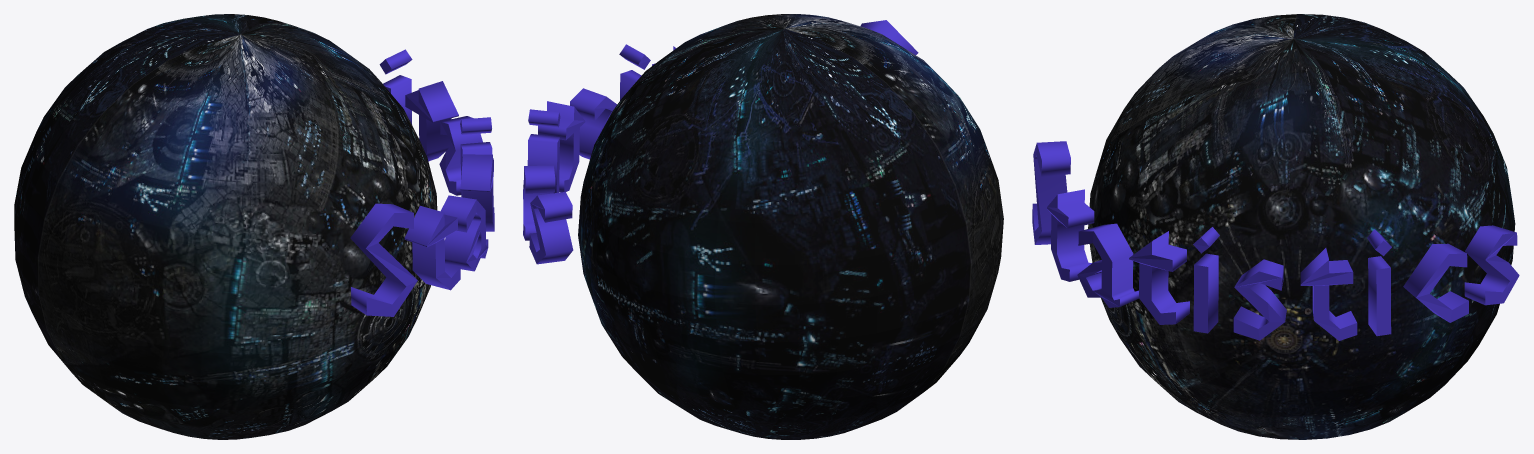
File: stats.glb
3 renders of one model, left to right at view 1: azimuth 30°, elevation 25°; view 2: azimuth 150°, elevation 25°; view 3: azimuth 270°, elevation 25°, orthographic.
Parts seen in each view (by area): view 1: Sphere, Text; view 2: Sphere, Text; view 3: Sphere, Text.
Boxes of the visible parts, x1,y1,x2,y2 form: Sphere: (14, 14, 437, 439); Text: (350, 49, 494, 316); Sphere: (578, 14, 1003, 439); Text: (523, 20, 918, 264); Sphere: (1088, 14, 1515, 439); Text: (1032, 141, 1519, 340).
Bounding box in the file's own units: 2.25 × 2 × 2.28.
2 materials, 1 textured.
